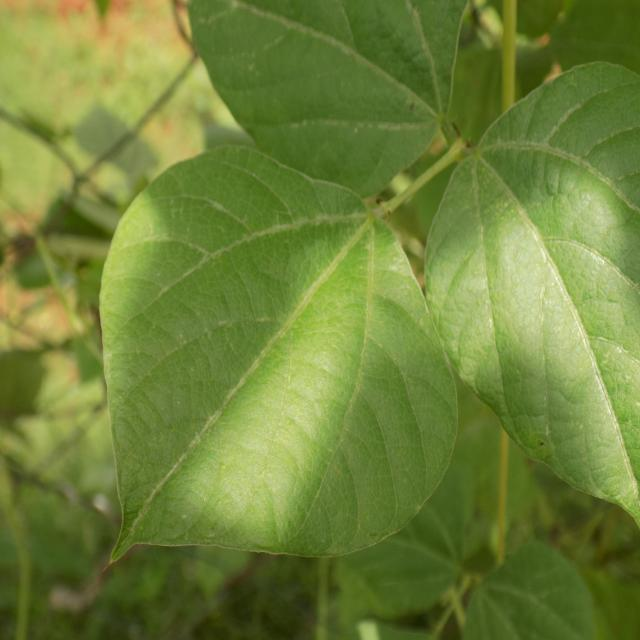Dolicos bean_cercospora leaf spot: (101, 151, 456, 551), (430, 65, 640, 536)
